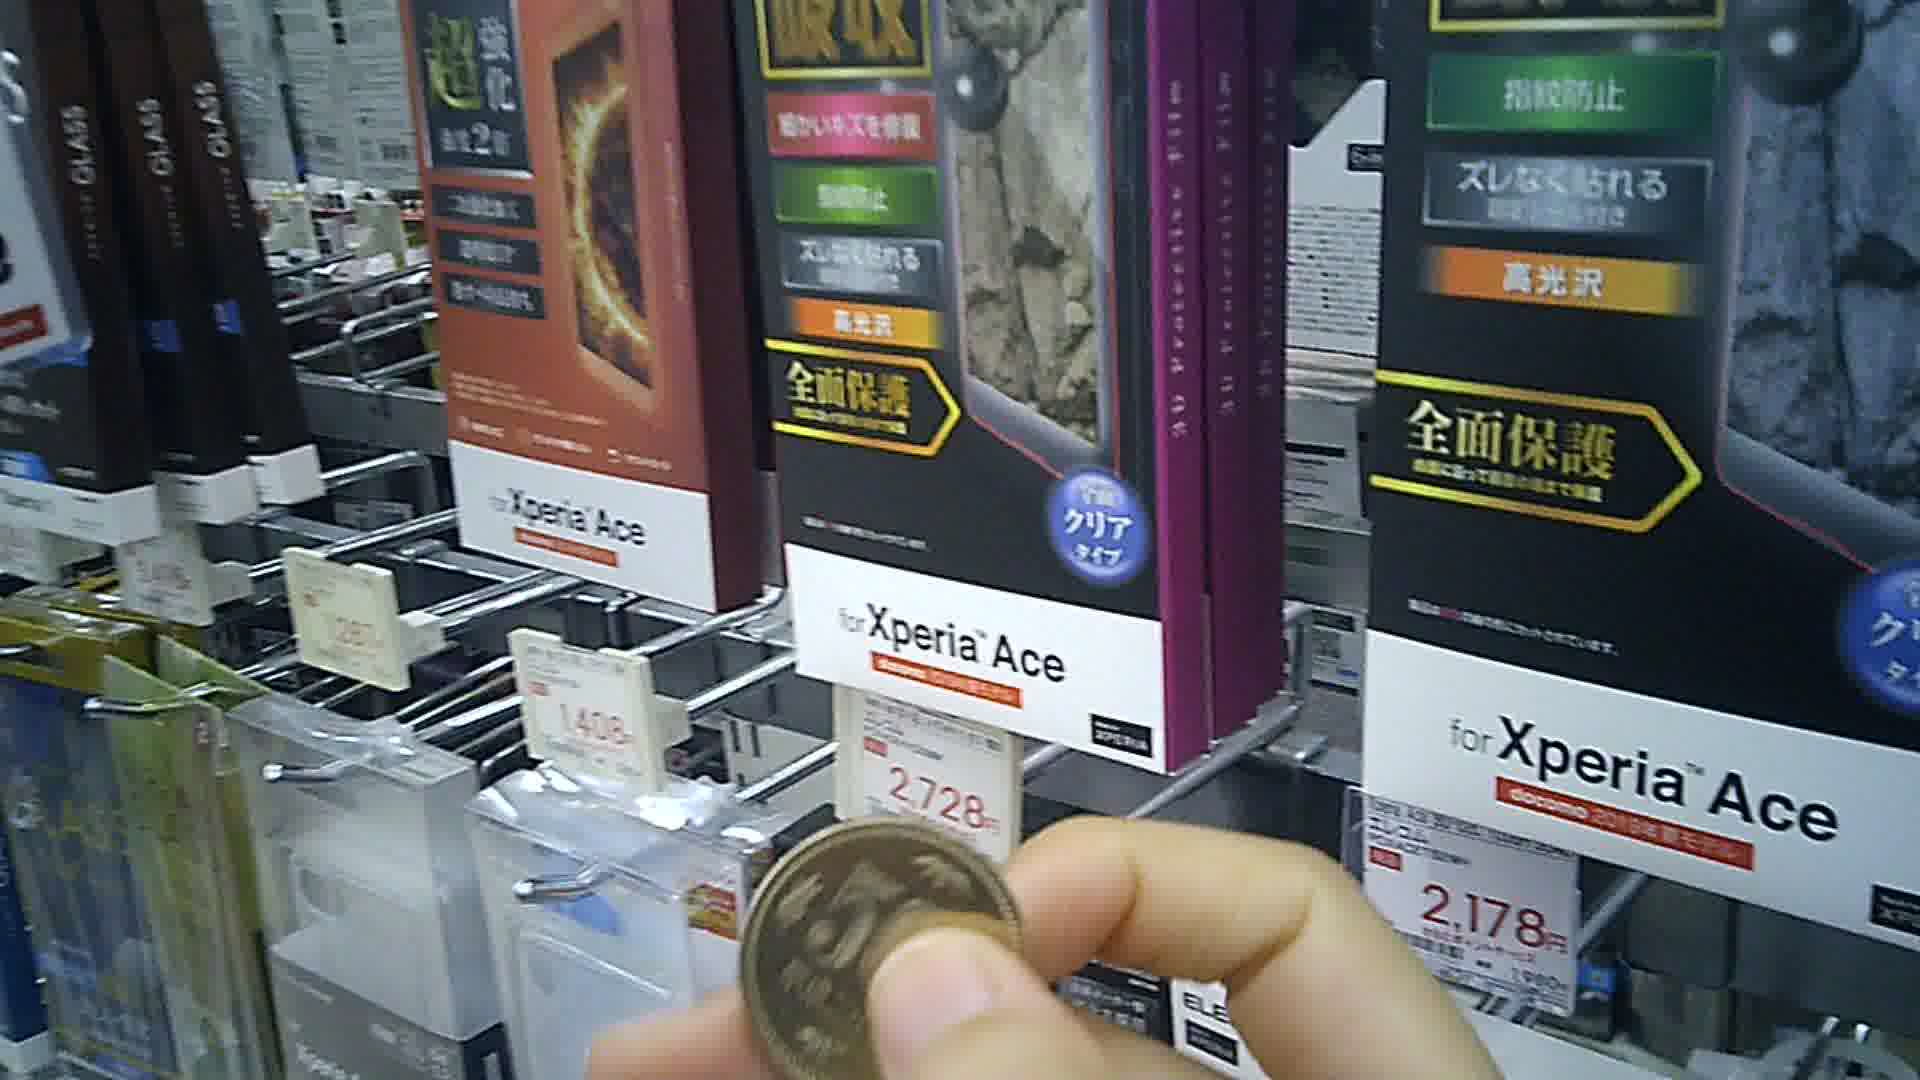500 Yen: (727, 806, 1033, 1079)
